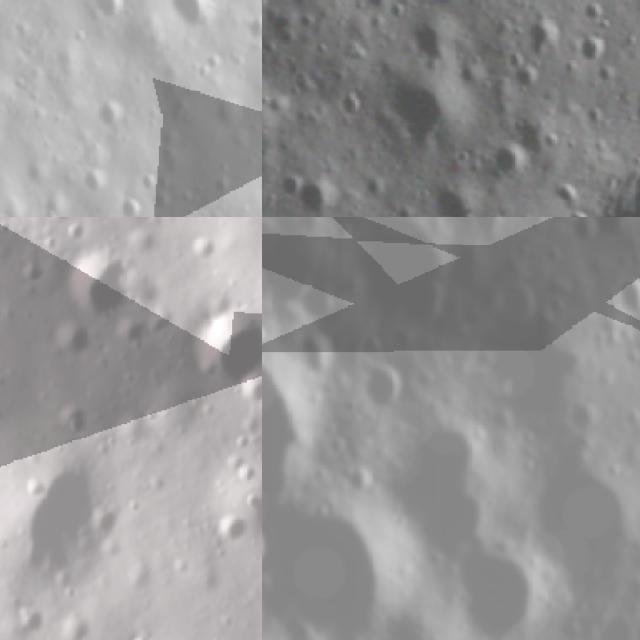crater: (262, 491, 400, 640), (516, 465, 640, 596), (262, 306, 325, 532), (440, 530, 566, 640), (356, 217, 465, 340), (375, 66, 475, 150), (192, 307, 262, 383), (484, 273, 544, 337), (62, 252, 125, 312), (353, 358, 406, 414), (262, 64, 295, 153), (294, 278, 343, 329), (408, 16, 458, 62), (521, 9, 562, 53), (431, 180, 479, 217), (339, 458, 381, 500), (299, 174, 339, 217), (488, 137, 532, 174), (612, 268, 640, 325), (167, 0, 218, 30), (263, 7, 303, 44), (574, 30, 614, 64), (564, 217, 604, 250), (94, 98, 130, 134), (48, 320, 88, 347), (90, 0, 130, 26), (145, 301, 173, 336), (574, 0, 611, 26), (335, 86, 361, 122), (18, 600, 42, 630), (14, 260, 40, 286), (61, 403, 84, 432), (216, 514, 244, 536), (22, 476, 48, 497), (57, 617, 80, 640), (354, 0, 402, 11), (193, 236, 214, 261), (559, 201, 591, 217), (116, 195, 139, 217), (246, 16, 262, 42), (630, 93, 640, 130), (62, 222, 84, 238), (128, 632, 152, 640)
